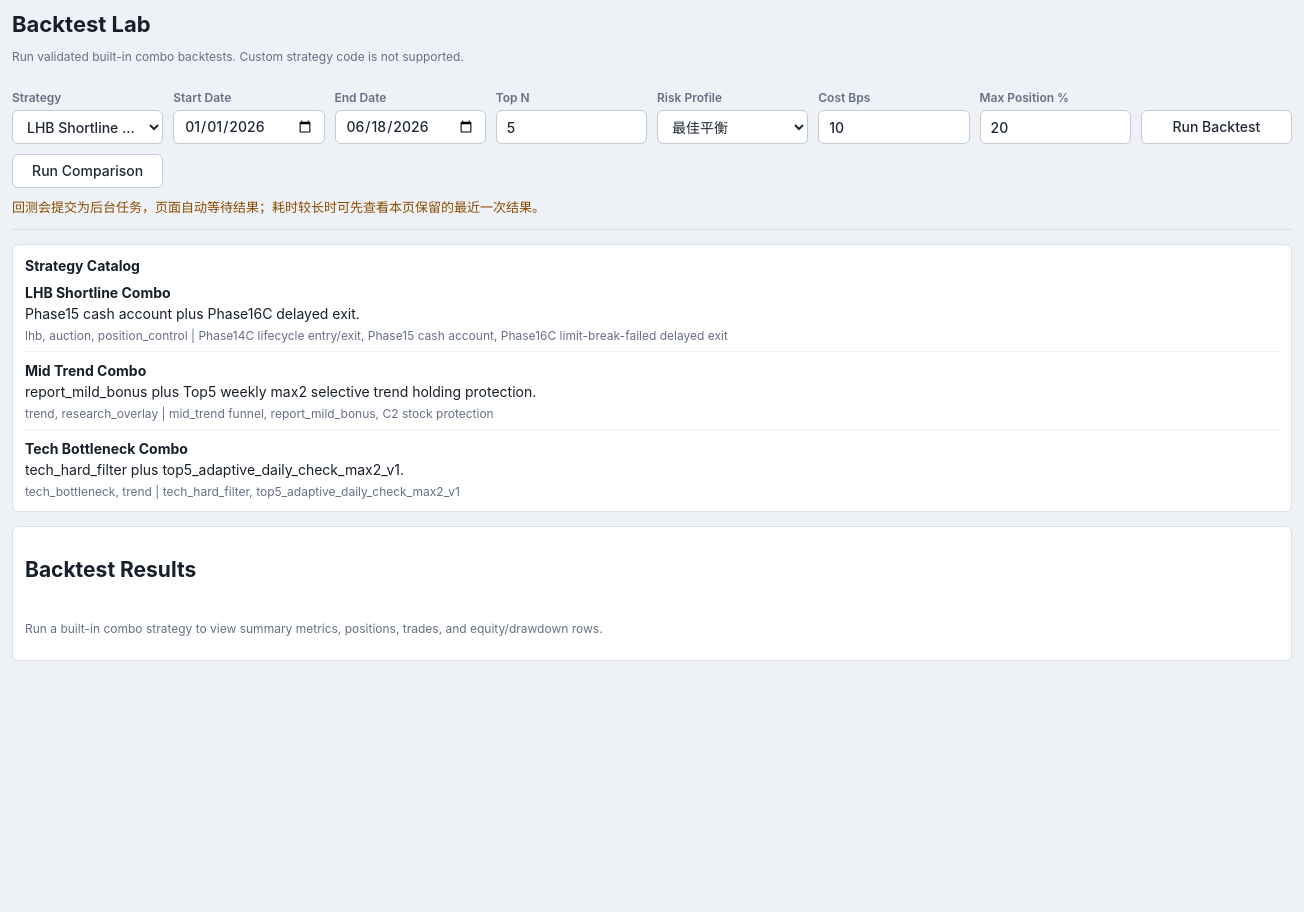
Test: BacktestLabWorkspace › rejects accidental vectorized results for selected LHB Shortline runs
What coordinates should you click on to do the following:
click the button "Run Backtest"
I would click on:
 (1216, 127)
Its box is [1141,110,1292,144].
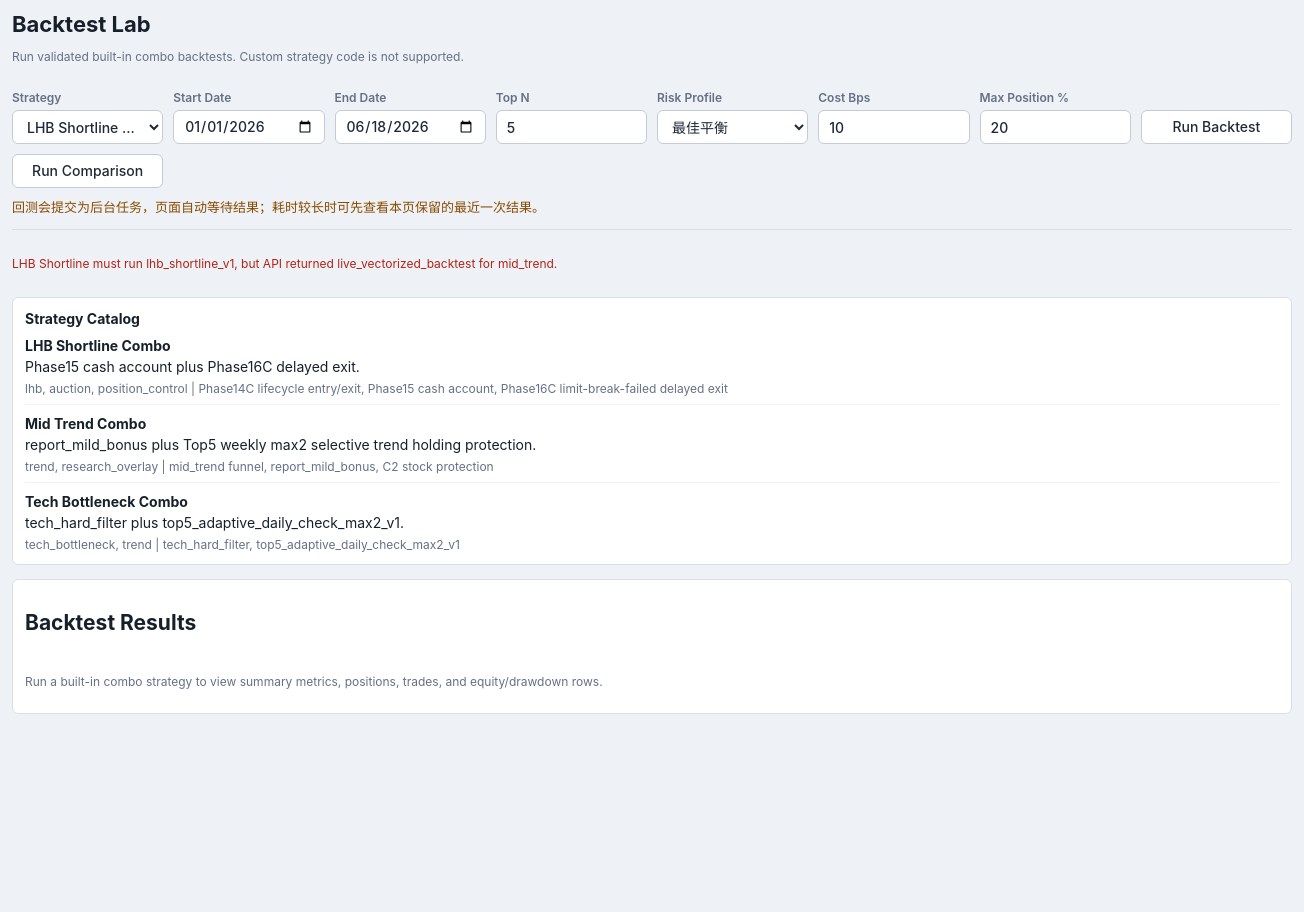
Check: the text "LHB Shortline must run lhb_shortline_v1" is shown, box [12,256,557,271]
